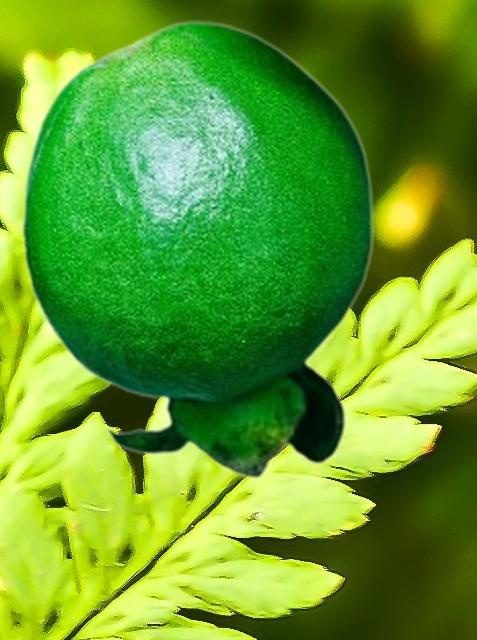guava: (19, 20, 374, 478)
